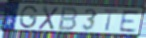3: (81, 8, 97, 32)
B: (57, 7, 80, 32)
E: (118, 10, 141, 33)
G: (18, 5, 39, 30)
T: (102, 8, 120, 32)
X: (37, 5, 61, 32)
